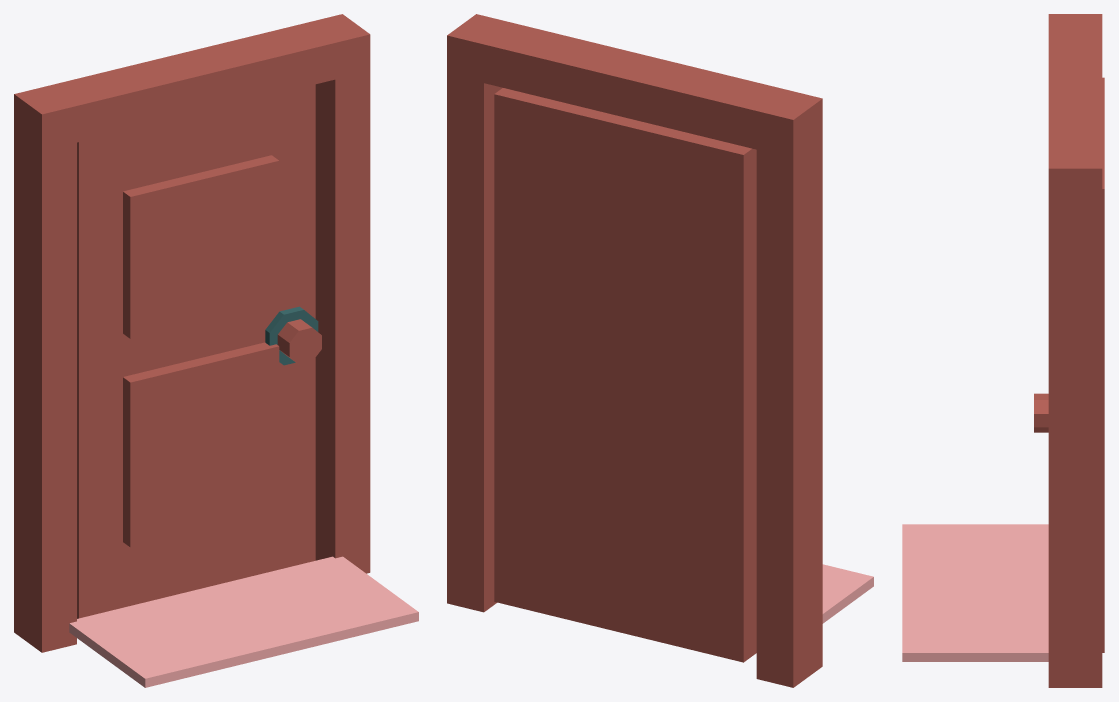
Rendered from door.obj.
3 views of the same model, side by side, from view 1: azimuth 30°, elevation 25°; view 2: azimuth 150°, elevation 25°; view 3: azimuth 270°, elevation 25° (orthographic). The views are drawn at different scales.
Visible parts, largest first — view 1: thick_cozy_door_slab, left_frame, lower_panel, right_frame, tiny_welcome_mat, upper_panel, top_frame, round_door_knob, knob_backplate; view 2: thick_cozy_door_slab, left_frame, right_frame, top_frame, tiny_welcome_mat; view 3: right_frame, tiny_welcome_mat, top_frame, thick_cozy_door_slab, round_door_knob.
Part boxes in pixels (bbox=[...]): thick_cozy_door_slab: bbox=[77, 84, 315, 618]; left_frame: bbox=[14, 110, 76, 652]; lower_panel: bbox=[123, 342, 279, 547]; right_frame: bbox=[315, 71, 370, 573]; tiny_welcome_mat: bbox=[69, 556, 418, 687]; upper_panel: bbox=[123, 155, 279, 338]; top_frame: bbox=[14, 14, 370, 150]; round_door_knob: bbox=[277, 319, 321, 364]; knob_backplate: bbox=[265, 306, 318, 365]; thick_cozy_door_slab: bbox=[494, 88, 756, 662]; left_frame: bbox=[756, 116, 822, 687]; right_frame: bbox=[447, 52, 502, 612]; top_frame: bbox=[447, 14, 822, 157]; tiny_welcome_mat: bbox=[822, 564, 873, 623]; right_frame: bbox=[1048, 184, 1102, 687]; tiny_welcome_mat: bbox=[902, 524, 1048, 661]; top_frame: bbox=[1048, 14, 1102, 203]; thick_cozy_door_slab: bbox=[1102, 77, 1104, 652]; round_door_knob: bbox=[1034, 393, 1048, 432].
Bounding box in the file's own units: 1.5 × 2.35 × 0.83.
